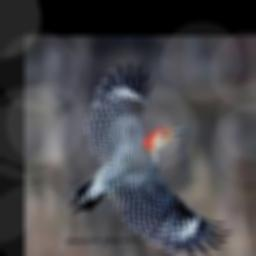Woodpecker: (68, 61, 231, 256)
